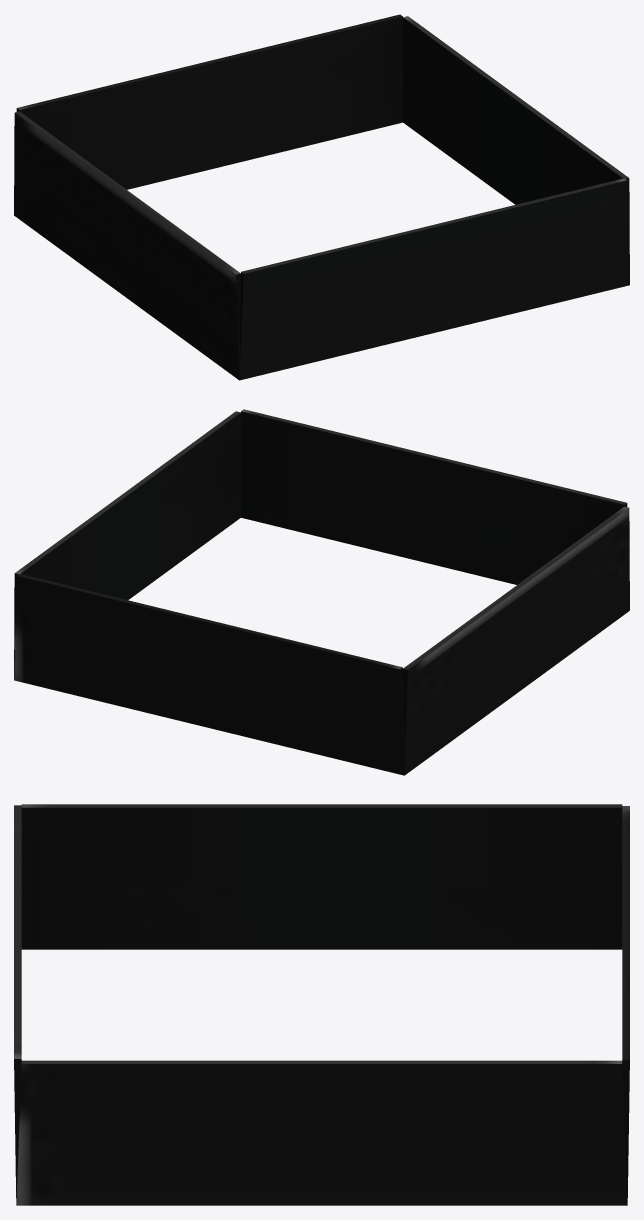
Rendered from wall.dae.
The picture shows the model from 3 angles, top to bottom: view 1: azimuth 30°, elevation 25°; view 2: azimuth 150°, elevation 25°; view 3: azimuth 270°, elevation 25°; orthographic projection. The views are drawn at different scales.
Visible parts, largest first — view 1: Plane_002; view 2: Plane_002; view 3: Plane_002.
Boxes of the visible parts, x1,y1,x2,y2 form: Plane_002: [14, 14, 629, 380]; Plane_002: [14, 409, 629, 775]; Plane_002: [14, 804, 629, 1205].
Bounding box in the file's own units: 6.62 × 6.62 × 1.71.
1 material, 1 textured.
